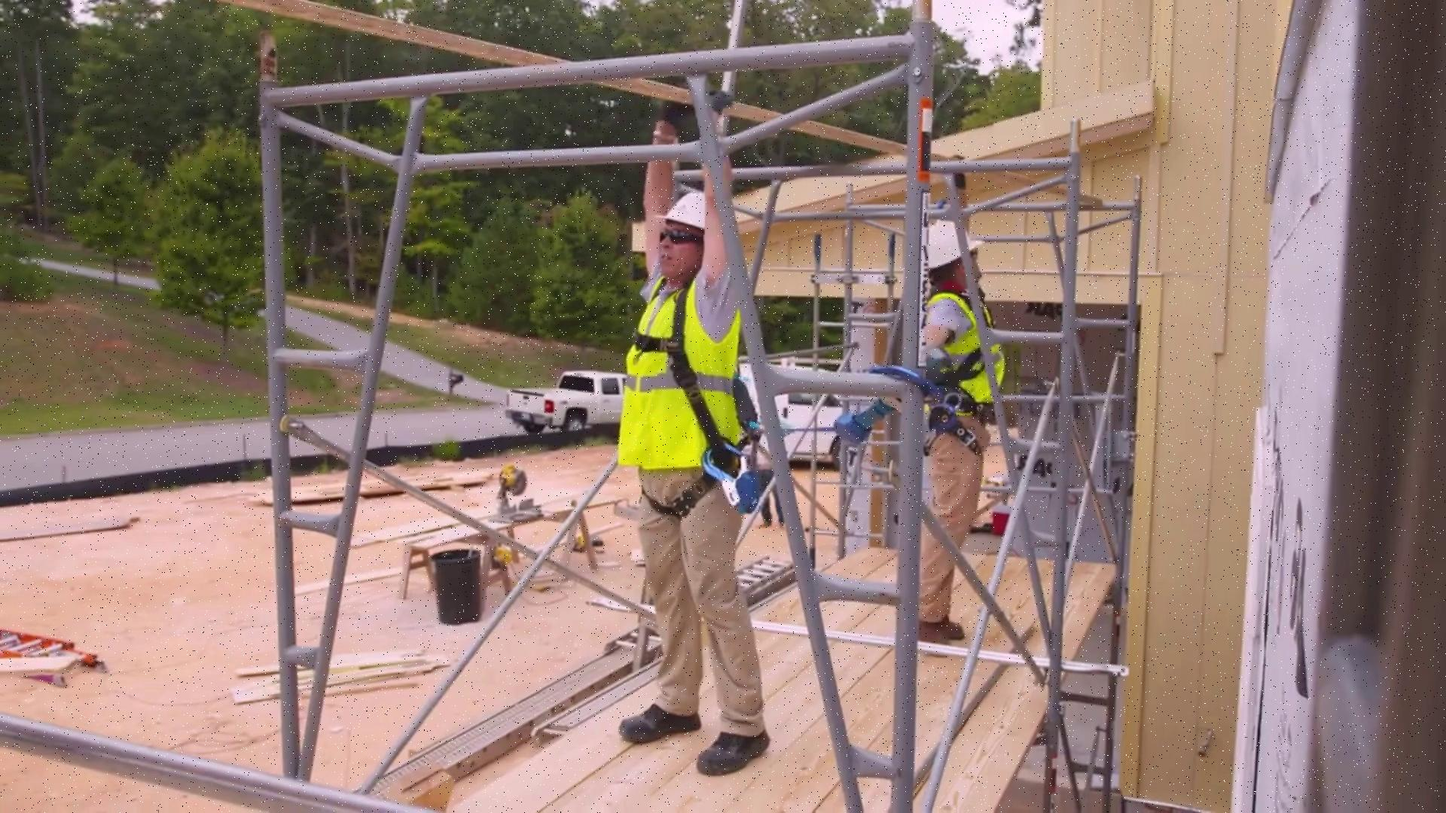Hard_hat: (909, 213, 992, 275), (655, 182, 721, 237)
Vest: (614, 286, 753, 484), (922, 291, 1013, 405)
